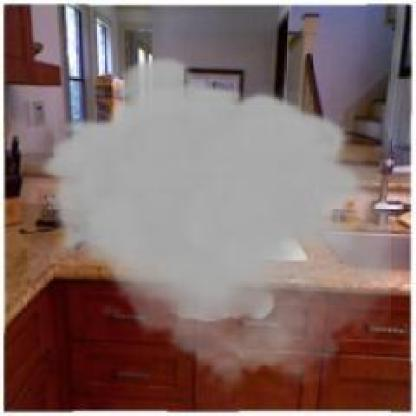Smoke: (39, 54, 391, 395)
